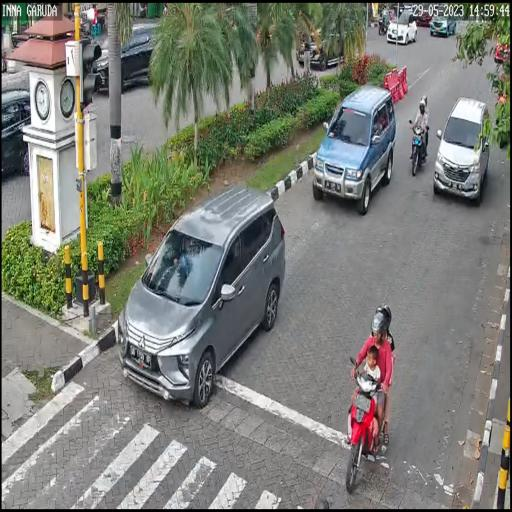mobil: (121, 183, 284, 407), (312, 84, 394, 214), (434, 98, 491, 202)
motor: (346, 352, 391, 488), (408, 120, 430, 177)
